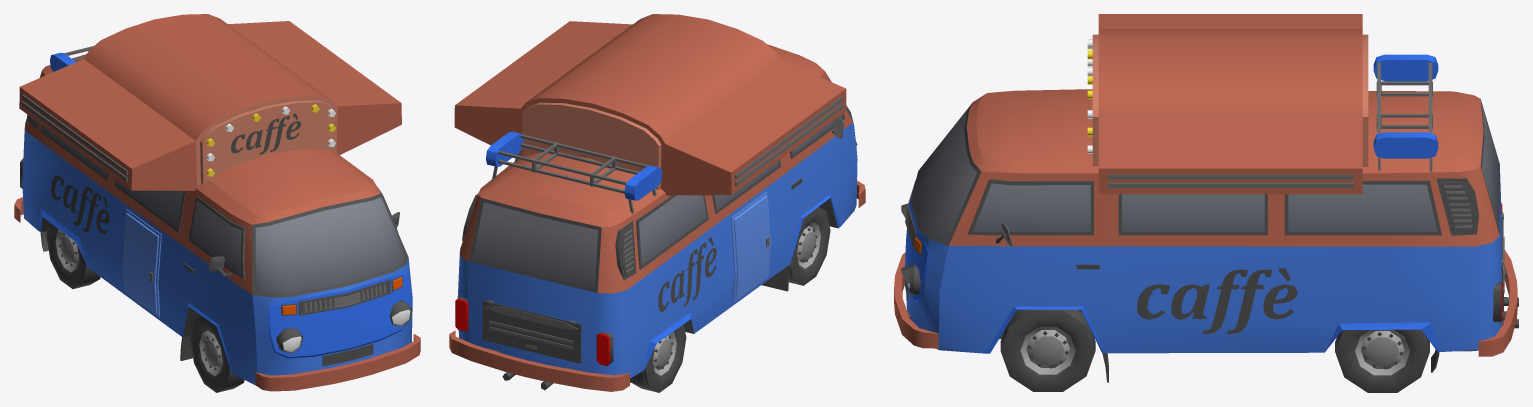
Rendered from Caffè Car.FBX.
3 views of the same model, side by side, from view 1: azimuth 30°, elevation 25°; view 2: azimuth 150°, elevation 25°; view 3: azimuth 270°, elevation 25° (orthographic). The views are drawn at different scales.
Parts seen in each view (by area): view 1: Body, Wheel_FR, Wheel_BR; view 2: Body, Wheel_FR, Wheel_BR; view 3: Body, Wheel_FL, Wheel_BL.
Boxes of the visible parts, box(x1,y1,x2,y2) form: Body: box(14, 14, 420, 391); Wheel_FR: box(190, 316, 244, 392); Wheel_BR: box(46, 222, 100, 288); Body: box(449, 14, 865, 391); Wheel_FR: box(789, 207, 830, 285); Wheel_BR: box(632, 324, 686, 392); Body: box(894, 14, 1518, 382); Wheel_FL: box(1000, 309, 1095, 391); Wheel_BL: box(1335, 329, 1429, 392).
Size of the model in its own units: 460 by 775 by 406.
Materials: 1 (1 with a texture image).
